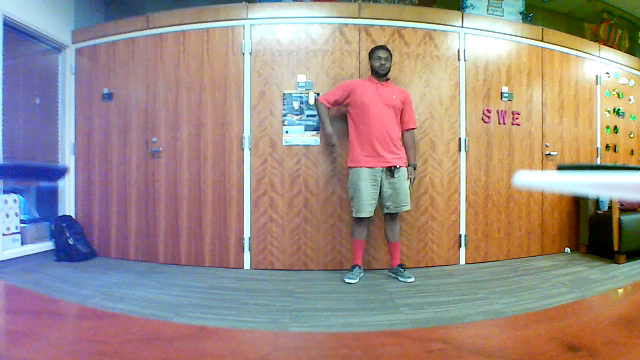down: (316, 124, 342, 165)
